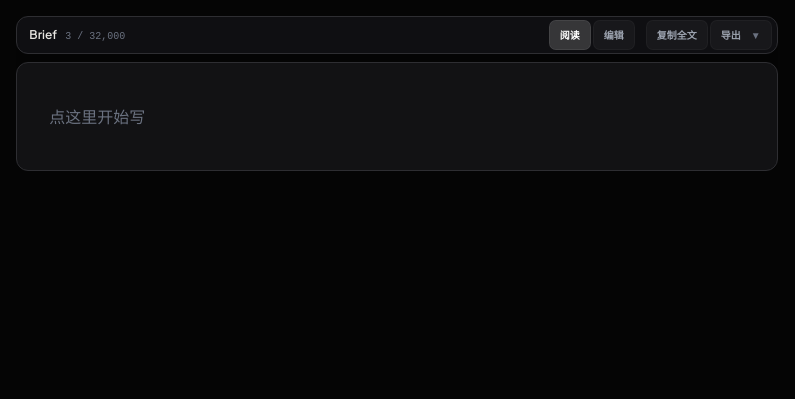
Test: WorkflowTextLightboxCenter › empty read mode offers a write prompt that enters edit
What coordinates should you click on to do the following:
click the button "点这里开始写"
I would click on:
 (97, 117)
Its box is [49,103,145,130].
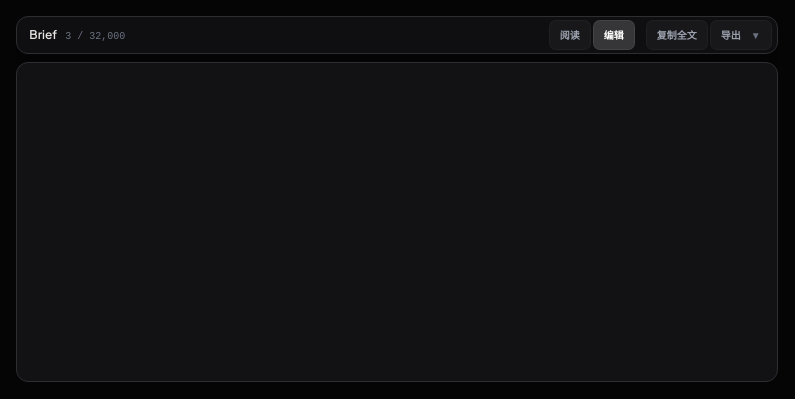
Expected: the text box is shown
